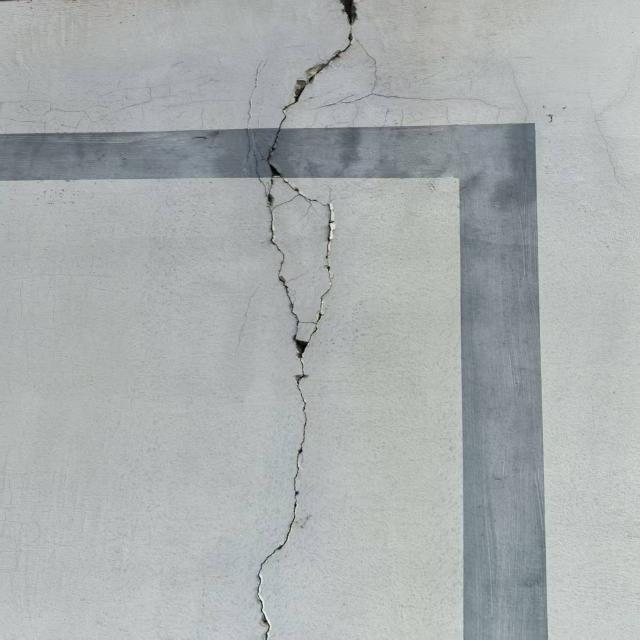crack: (241, 8, 376, 629)
